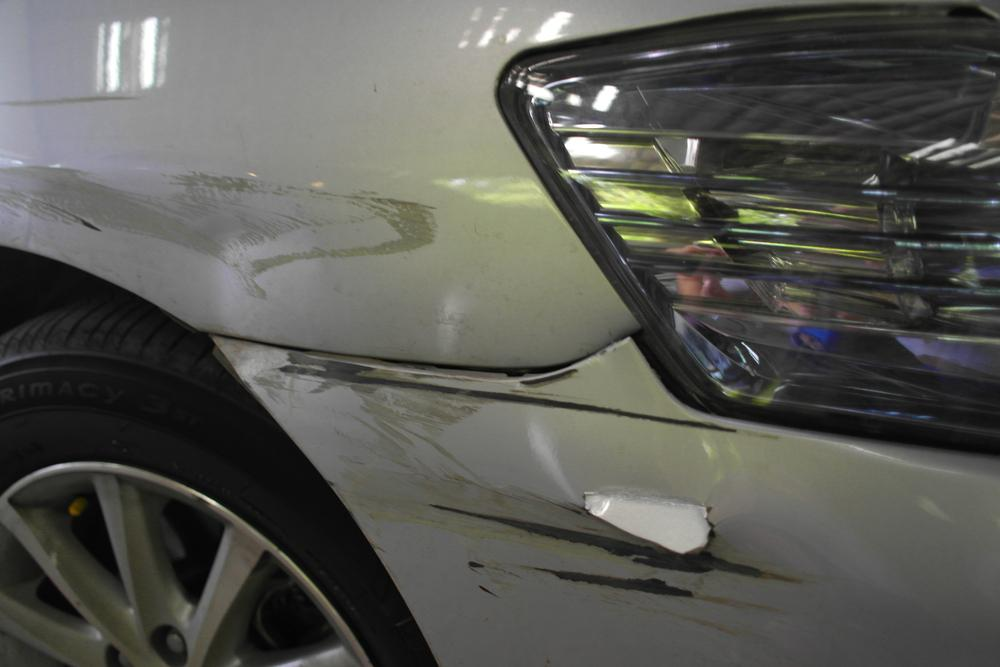crack: (576, 488, 717, 557)
dent: (0, 165, 311, 332)
scratch: (251, 347, 809, 643), (165, 167, 452, 265)
